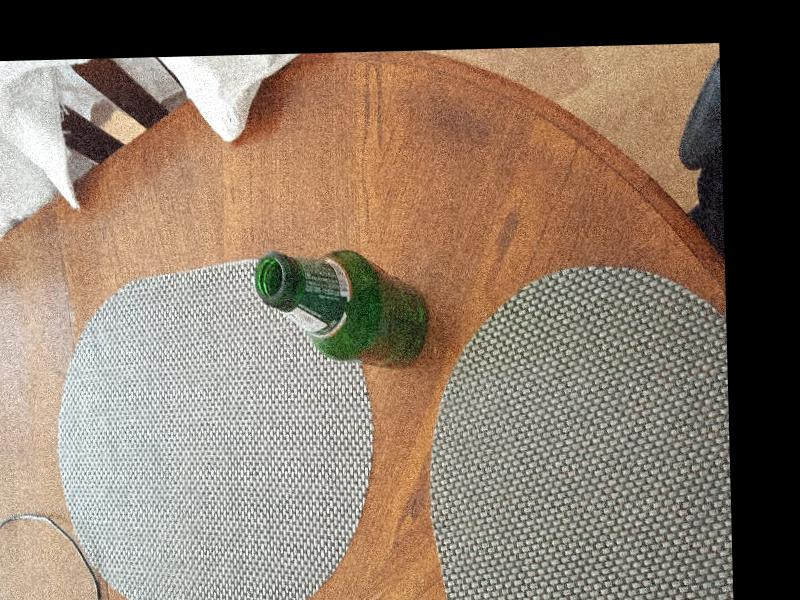Beer: (254, 248, 431, 369)
